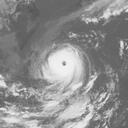cyclone: (37, 44, 94, 92)
